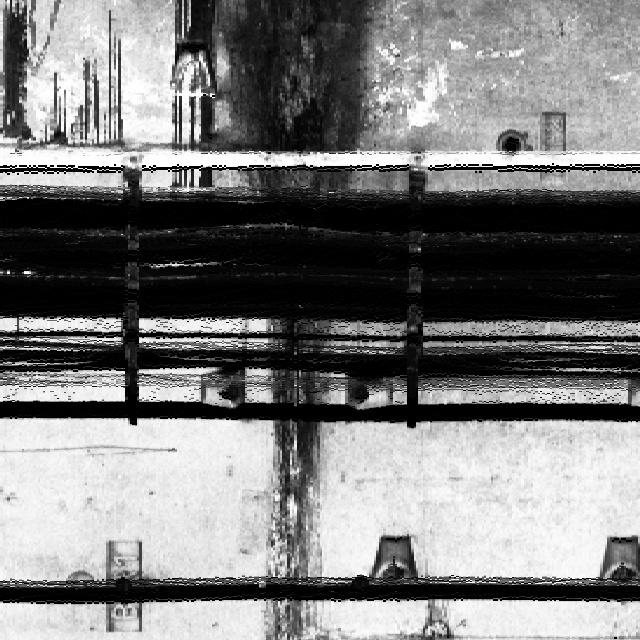leakage: (214, 0, 380, 189), (246, 311, 335, 639), (42, 5, 137, 143), (167, 0, 211, 186), (0, 0, 34, 135)
